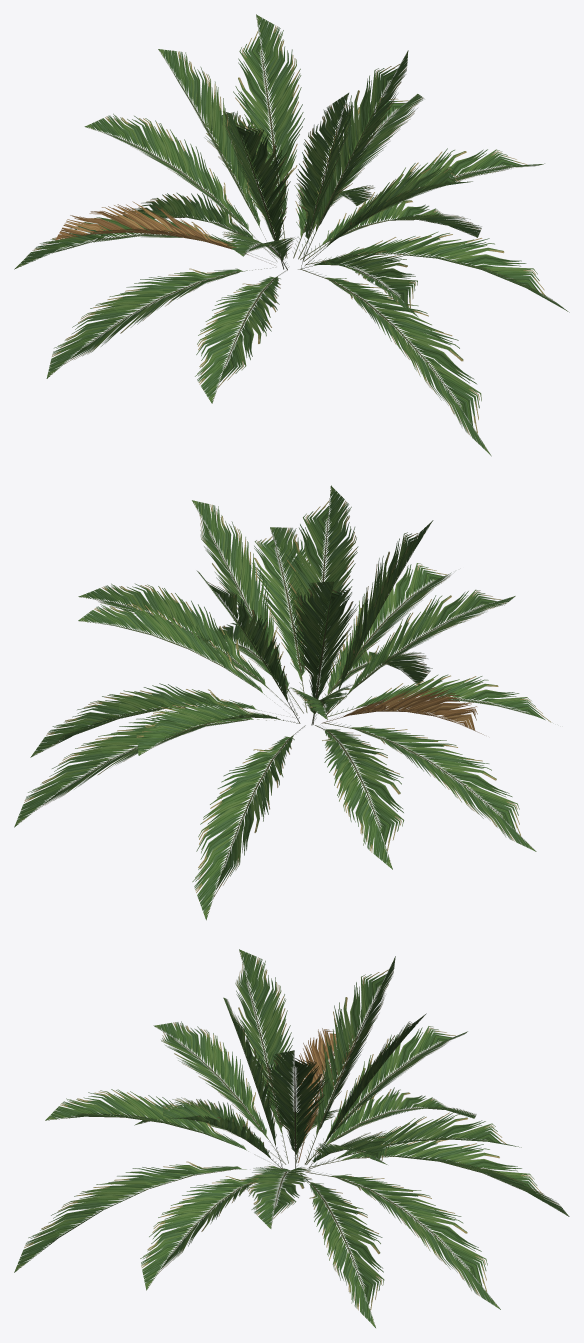
Rendered from palm_young.glb.
3 views of the same model, one above another, from view 1: azimuth 30°, elevation 25°; view 2: azimuth 150°, elevation 25°; view 3: azimuth 270°, elevation 25° (orthographic). The views are drawn at different scales.
Parts seen in each view (by area): view 1: palm_young; view 2: palm_young; view 3: palm_young.
Part boxes in pixels (x1,y1,x2,y2): palm_young: [14, 14, 569, 456]; palm_young: [14, 485, 551, 920]; palm_young: [14, 949, 569, 1327].
Size of the model in its own units: 3.08 by 1.78 by 3.41.
Materials: 1 (1 with a texture image).
